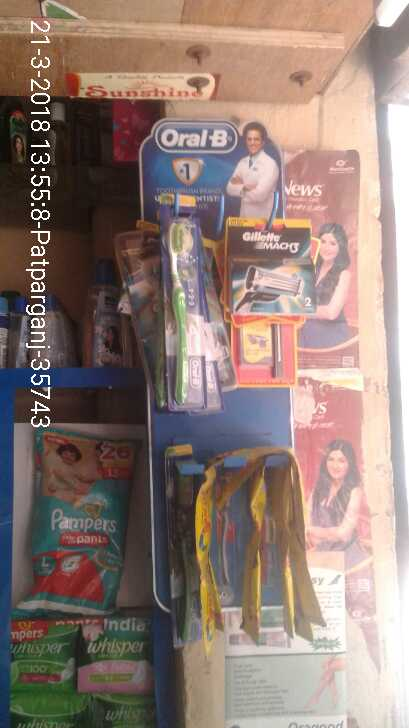beauty: (226, 228, 332, 315)
pharmacy: (28, 432, 135, 610), (164, 220, 219, 416), (6, 620, 82, 694), (4, 618, 80, 692), (81, 617, 157, 691)
